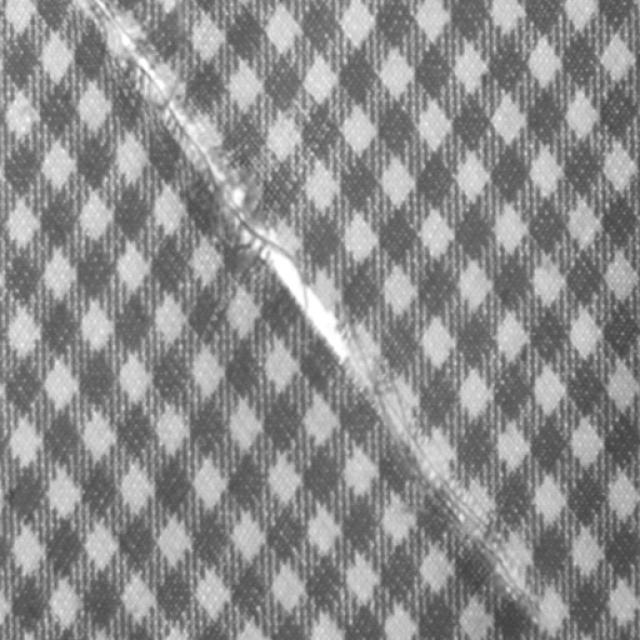Hole-Defect: (78, 3, 549, 609)
